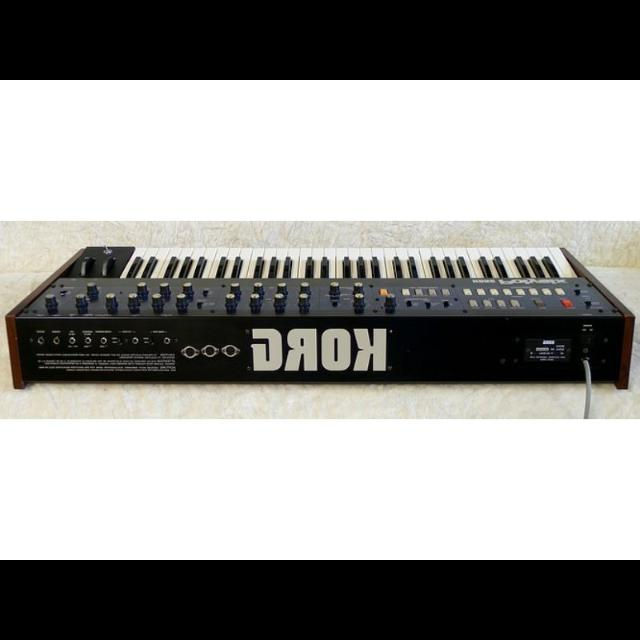Electronic-Keyboard: (8, 237, 628, 393)
